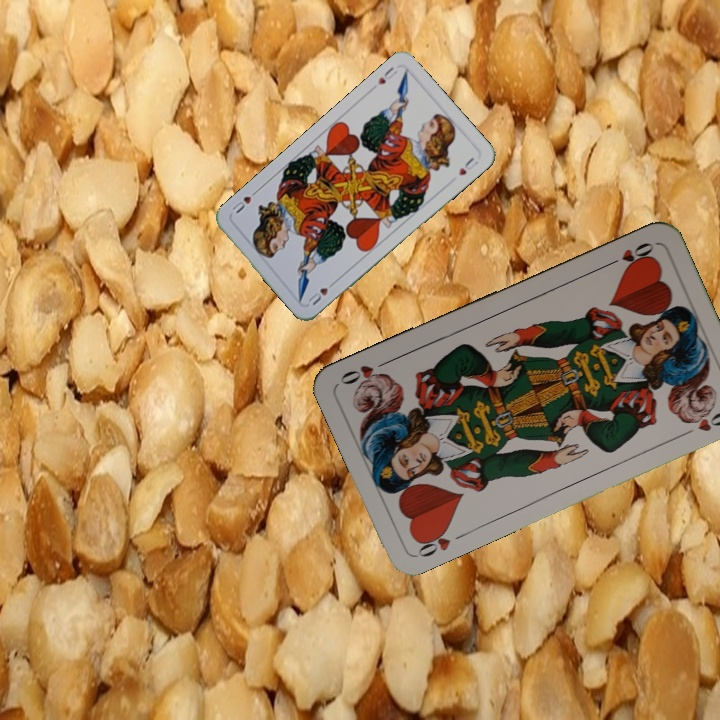HO: (412, 523, 469, 560), (601, 238, 657, 270)
HU: (304, 277, 339, 308), (373, 62, 400, 87)
